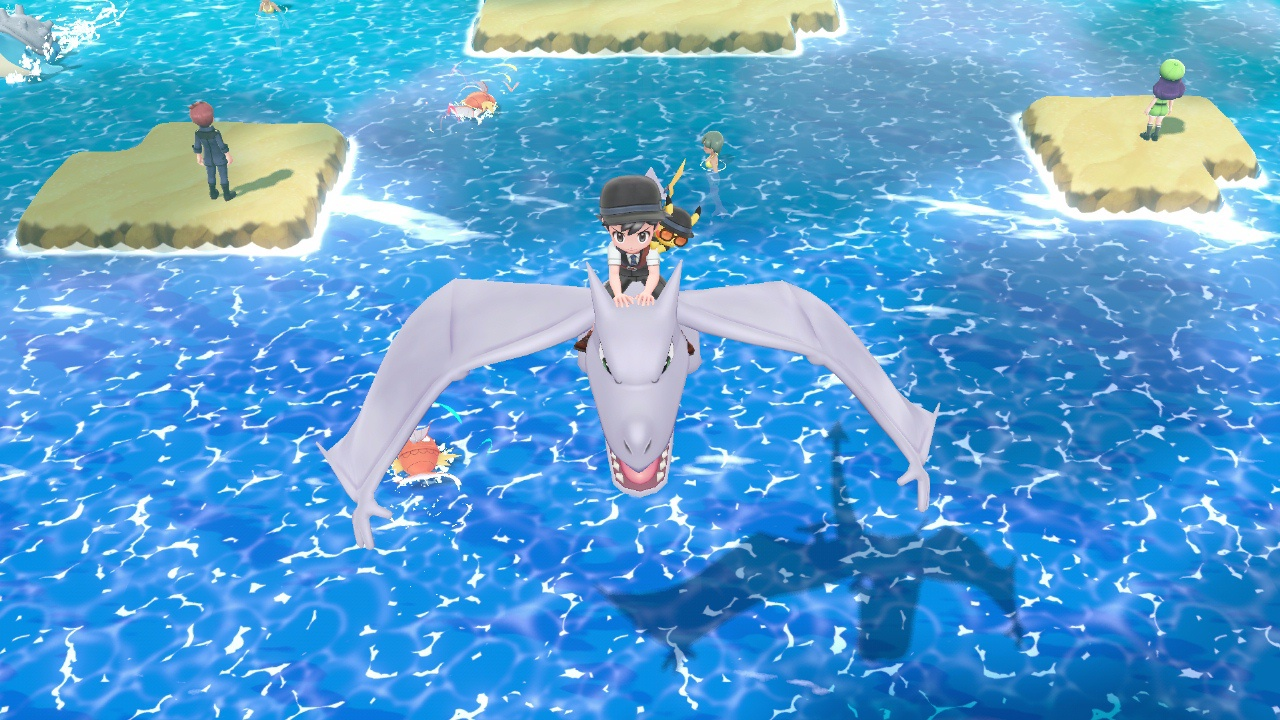Red: (382, 427, 453, 486), (447, 80, 501, 125)
